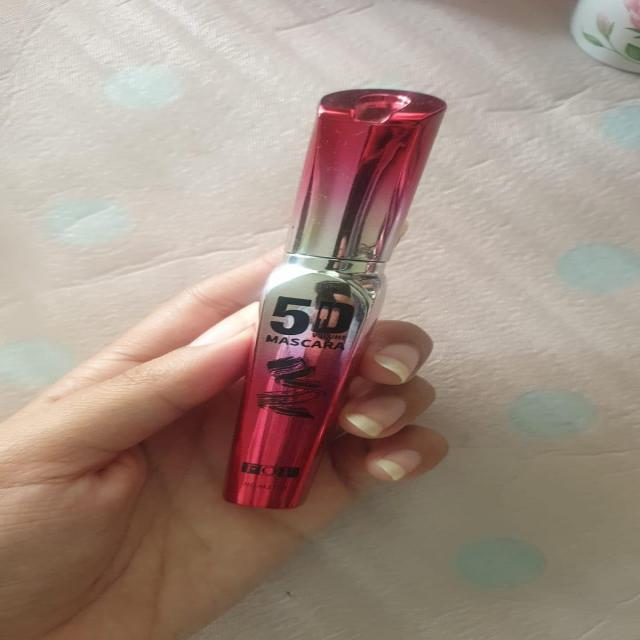mascara: (208, 70, 460, 514)
